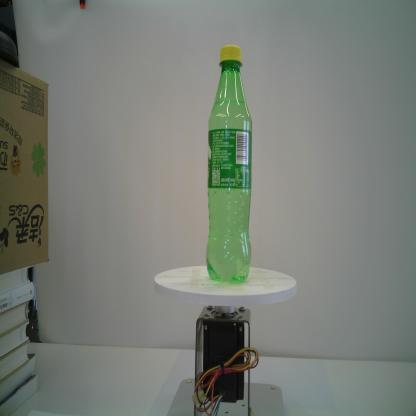Drink: (205, 44, 252, 283)
